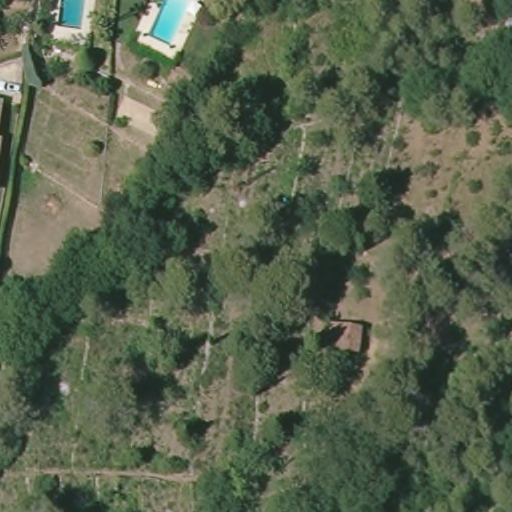pool: (143, 1, 199, 48), (48, 1, 93, 33)
